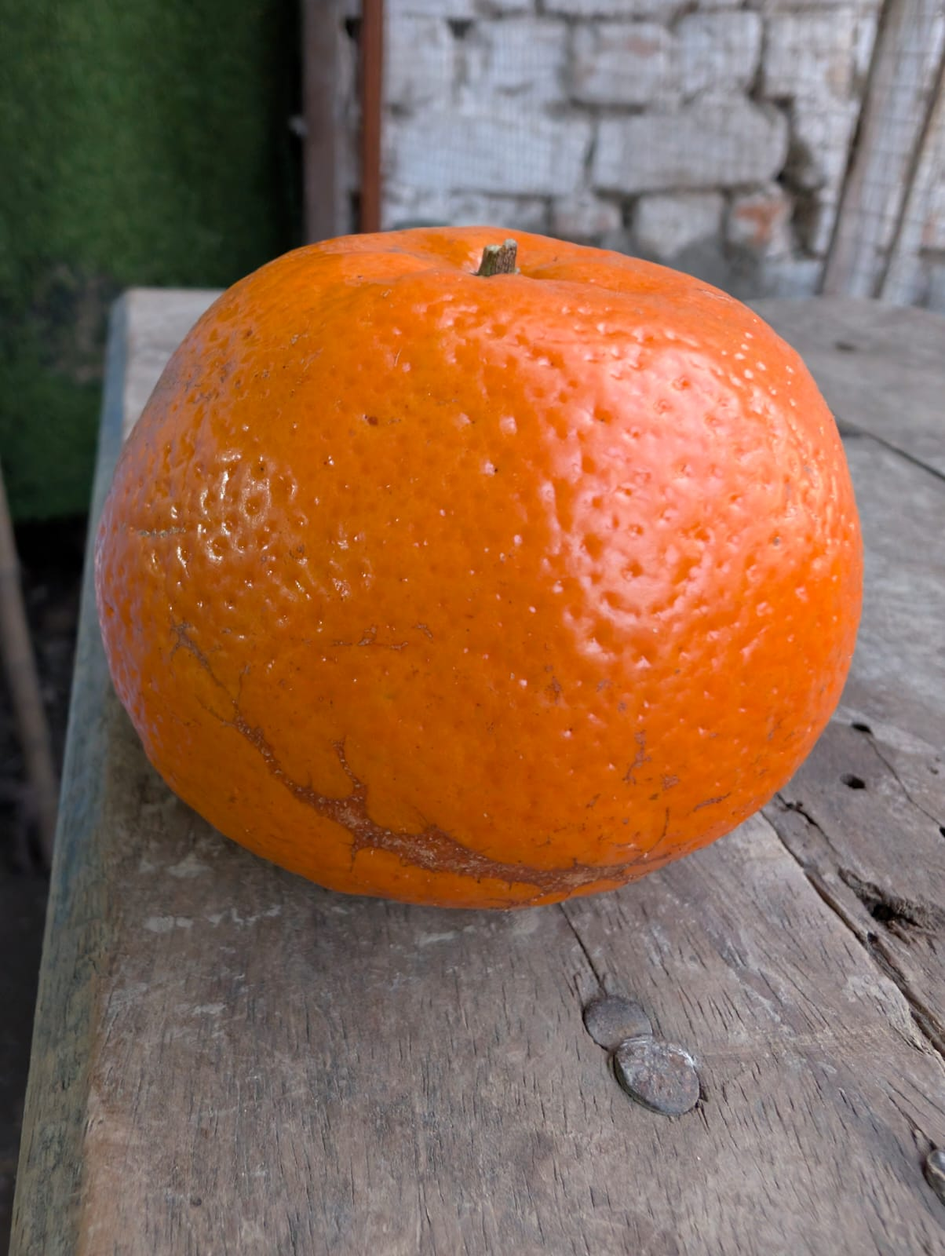orange: (158, 120, 932, 916)
